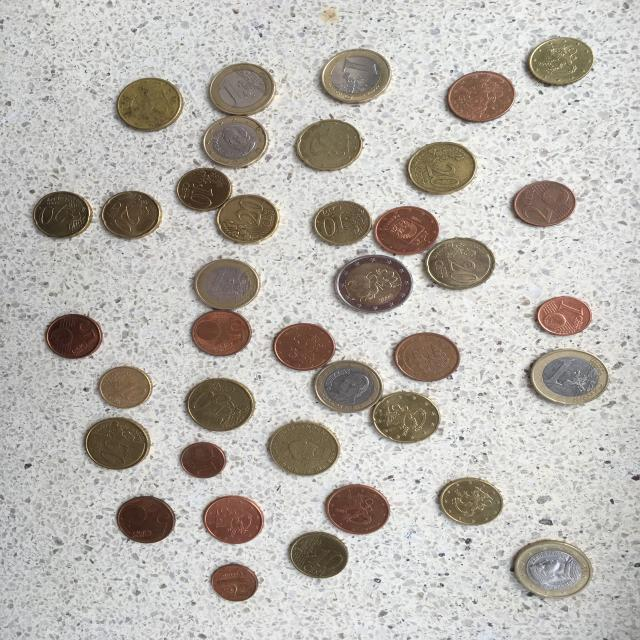10c: (525, 36, 594, 86), (438, 477, 506, 526), (312, 200, 372, 248), (288, 532, 350, 578), (96, 364, 154, 410), (172, 168, 233, 210)
1c: (534, 295, 594, 337), (207, 562, 262, 602), (178, 441, 225, 482)
1e: (510, 539, 594, 601), (529, 349, 609, 405), (318, 47, 393, 103), (204, 62, 278, 116), (312, 359, 384, 414), (189, 258, 262, 311), (200, 117, 270, 168)
20c: (114, 76, 184, 132), (294, 118, 366, 172), (371, 390, 441, 445), (406, 142, 477, 196), (426, 237, 496, 290), (217, 194, 280, 244), (102, 189, 162, 239), (31, 190, 92, 238)
2c: (270, 323, 338, 371), (512, 180, 576, 227)
2e: (334, 256, 414, 314)
50c: (268, 420, 342, 476), (184, 377, 256, 433), (83, 417, 150, 470)
5c: (444, 72, 516, 124), (324, 483, 392, 536), (374, 203, 441, 256), (200, 494, 266, 545), (394, 332, 461, 382), (114, 494, 177, 544), (192, 310, 252, 358), (45, 312, 105, 359)
